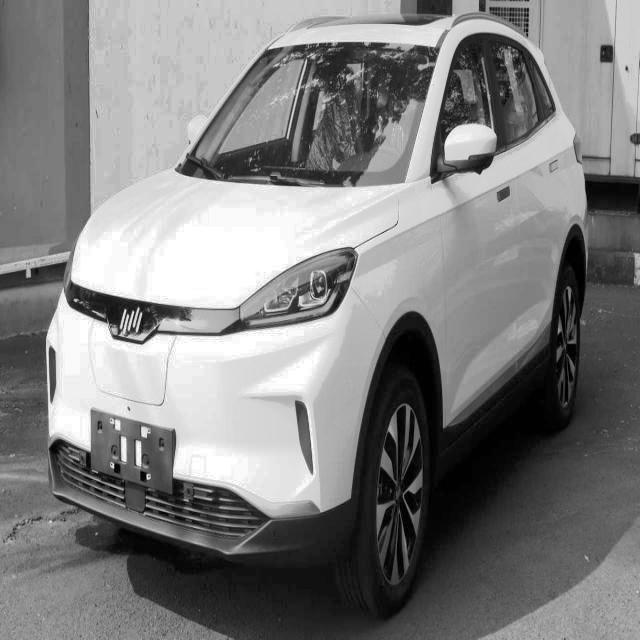Car: (41, 3, 594, 617)
